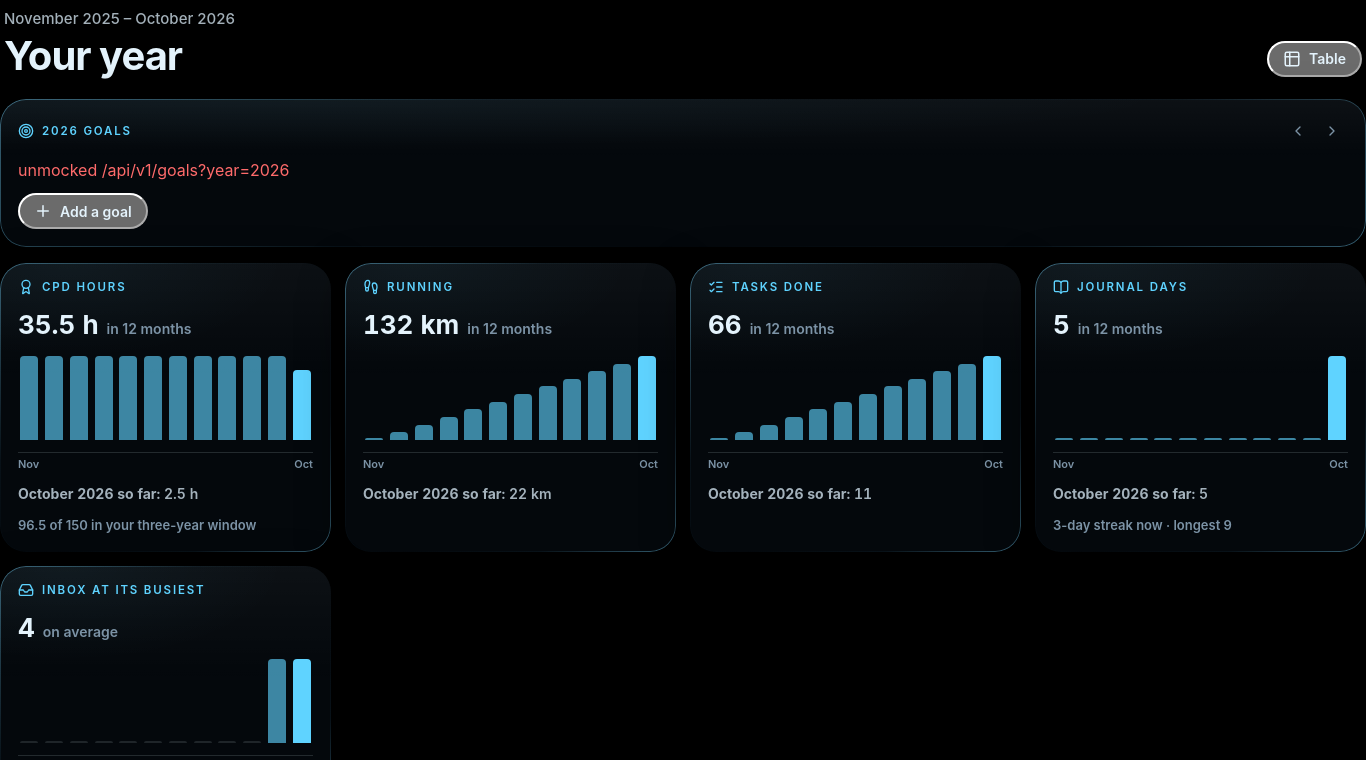
Scenario: <TrendsScreen /> › shows each measure for 12 months, with a readout per month and a table
Expected: the text "35.5 h" is shown, top-left (18, 308), bottom-right (99, 344)
Expected: the text "96.5 of 150 in your three-year window" is shown, top-left (18, 517), bottom-right (256, 533)
Hover over the list item named "December 2025: 2 km".
mouse_move(399, 436)  # box top-left (390, 432), bottom-right (408, 440)
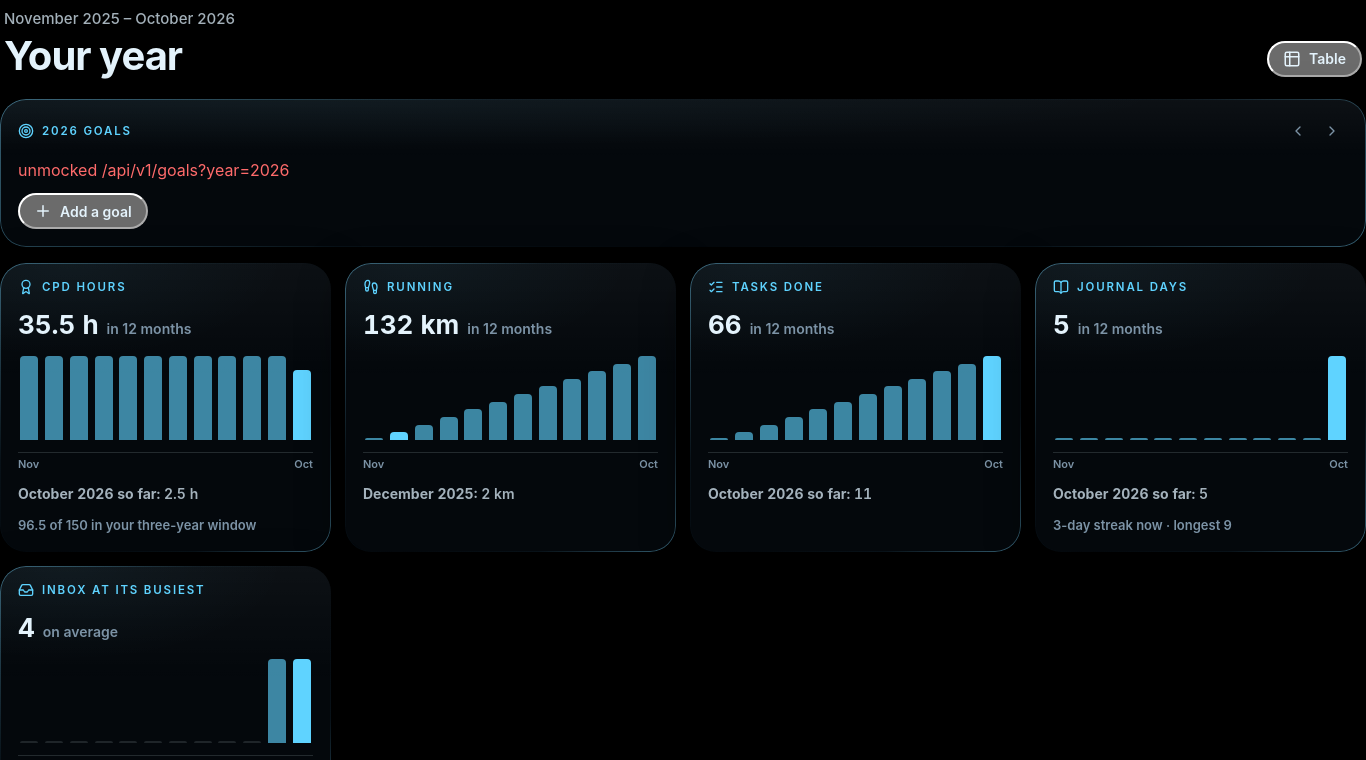
Expected: the text "3-day streak now · longest 9" is shown, top-left (1053, 517), bottom-right (1232, 533)
Now the element showing "December 2025: 2 km" is shown, box top-left (363, 485), bottom-right (515, 502)
Click the button "Table".
click(1315, 59)  # box top-left (1267, 41), bottom-right (1362, 77)
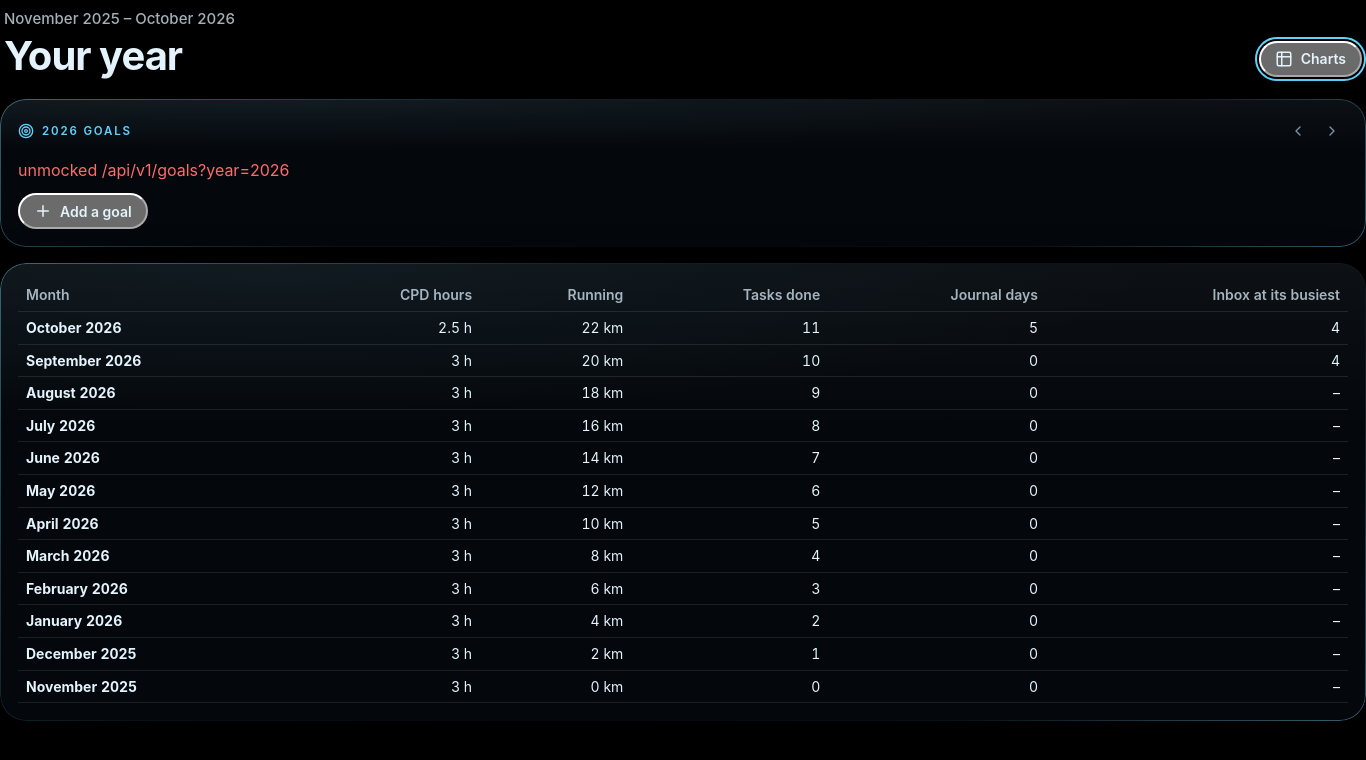
Now the number of rows is 13
Now the row "October 2026 2.5 h 22 km 11 5 4" is shown, box top-left (18, 312), bottom-right (1348, 344)
